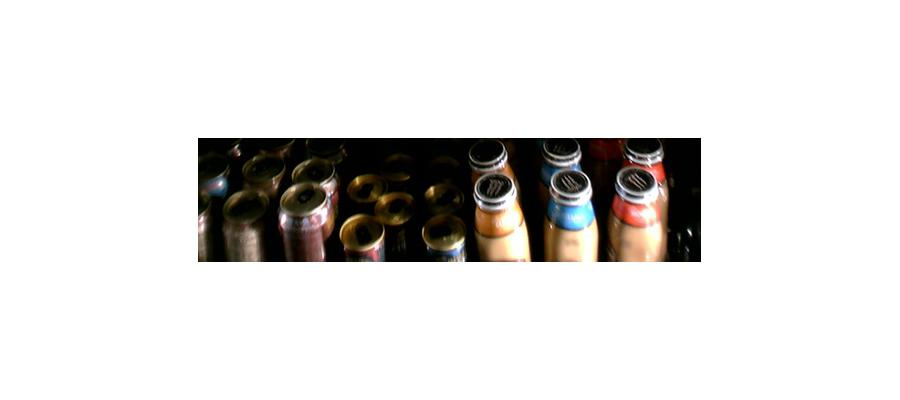bottle: (605, 155, 668, 264), (220, 150, 276, 263), (541, 166, 597, 263), (475, 165, 529, 260), (278, 174, 329, 263)
